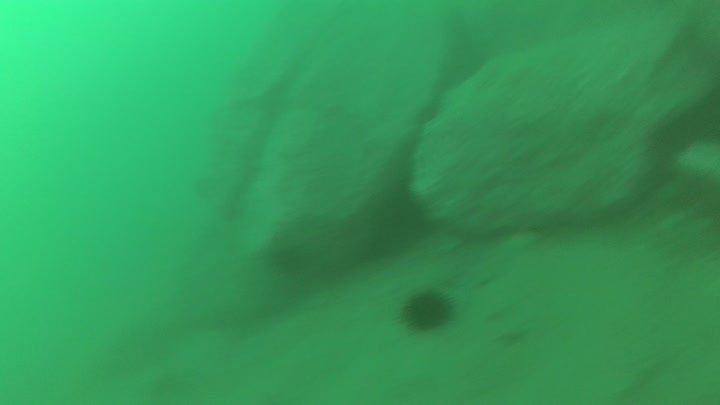echinus: (394, 287, 460, 333)
